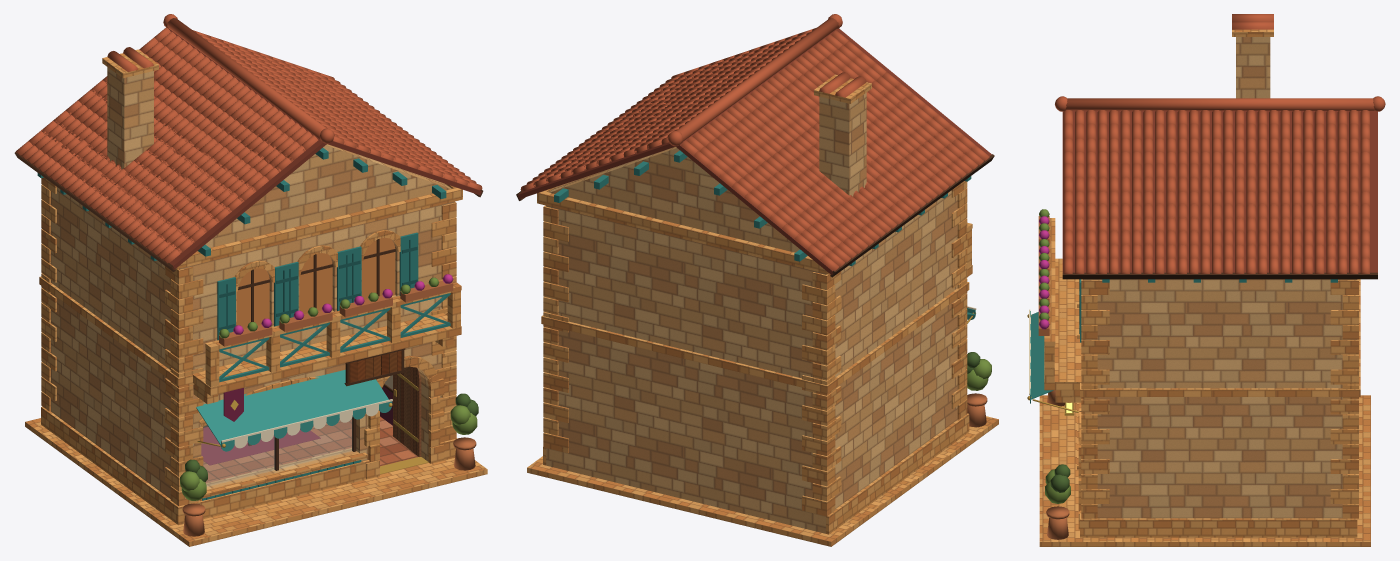
File: house_medium_shutters.glb
3 views of the same model, side by side, from view 1: azimuth 30°, elevation 25°; view 2: azimuth 150°, elevation 25°; view 3: azimuth 270°, elevation 25° (orthographic). The views are drawn at different scales.
Visible parts, largest first — view 1: exterior_walls, roof_tiles, exterior_trim, windows, facade_details, roof_structure, opt_awning, interior_floor, planters, door_frame, door_leaf, sign_board; view 2: exterior_walls, roof_tiles, exterior_trim, roof_structure, planters; view 3: exterior_walls, roof_tiles, exterior_trim, roof_structure, facade_details, planters, opt_awning, door_frame.
Part boxes in pixels (box(x1,y1,x2,y2)): exterior_walls: box(50, 144, 454, 498); roof_tiles: box(15, 14, 482, 263); exterior_trim: box(25, 177, 487, 546); windows: box(201, 232, 418, 500); facade_details: box(192, 274, 461, 421); roof_structure: box(14, 28, 483, 271); opt_awning: box(196, 369, 392, 451); interior_floor: box(201, 416, 418, 483); planters: box(180, 393, 478, 536); door_frame: box(364, 355, 444, 479); door_leaf: box(393, 366, 421, 456); sign_board: box(344, 348, 405, 386); exterior_walls: box(546, 147, 957, 533); roof_tiles: box(520, 14, 989, 270); exterior_trim: box(527, 181, 998, 546); roof_structure: box(516, 28, 994, 277); planters: box(967, 352, 991, 427); exterior_walls: box(1083, 279, 1357, 518); roof_tiles: box(1055, 96, 1385, 273); exterior_trim: box(1039, 279, 1370, 546); roof_structure: box(1062, 14, 1377, 282); facade_details: box(1038, 209, 1081, 402); planters: box(1045, 390, 1070, 539); opt_awning: box(1027, 309, 1078, 412); door_frame: box(1078, 402, 1081, 529).
Bounding box in the file's own units: 7.99 × 9.77 × 7.84.
Materials: 26 (5 with a texture image).
